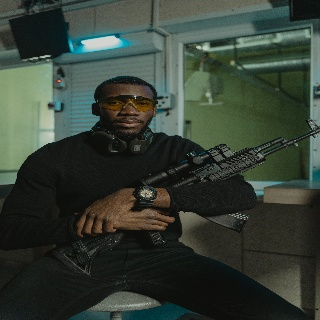rifle: (51, 117, 320, 277)
